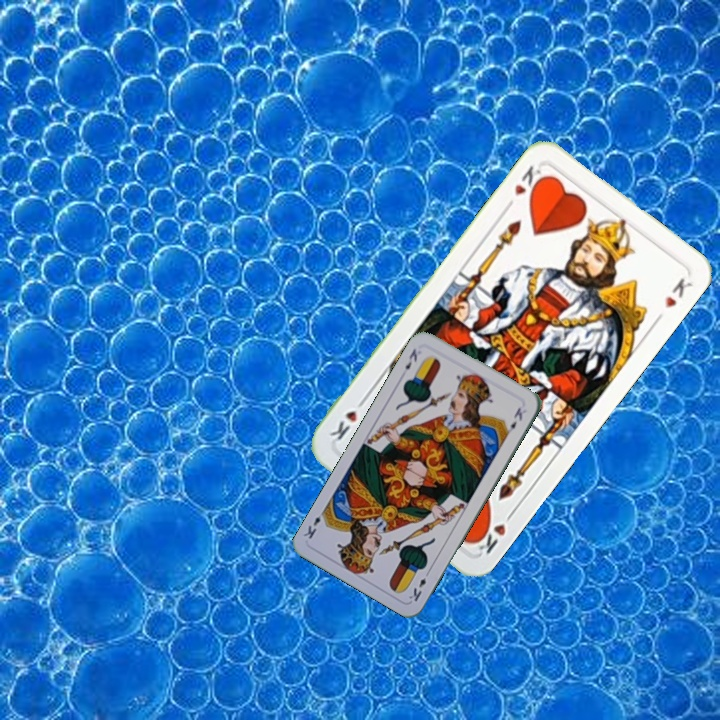EK: (405, 566, 433, 604), (401, 344, 420, 372)
HK: (468, 506, 518, 557), (501, 161, 549, 212)
